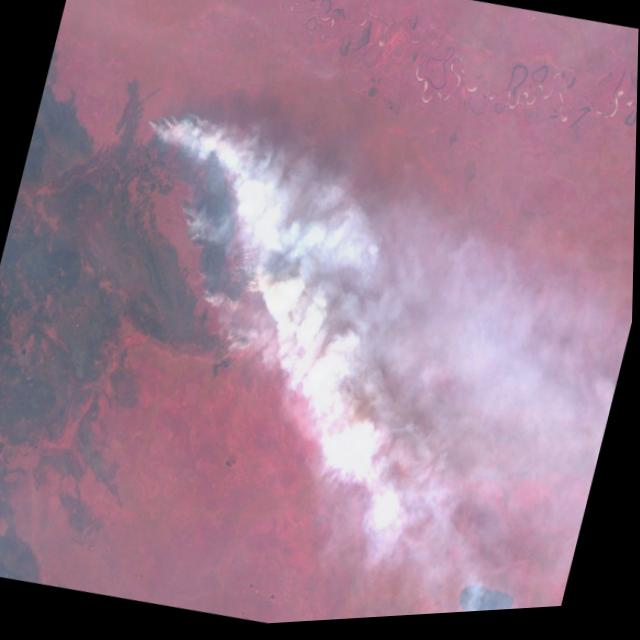fire: (86, 81, 327, 379)
